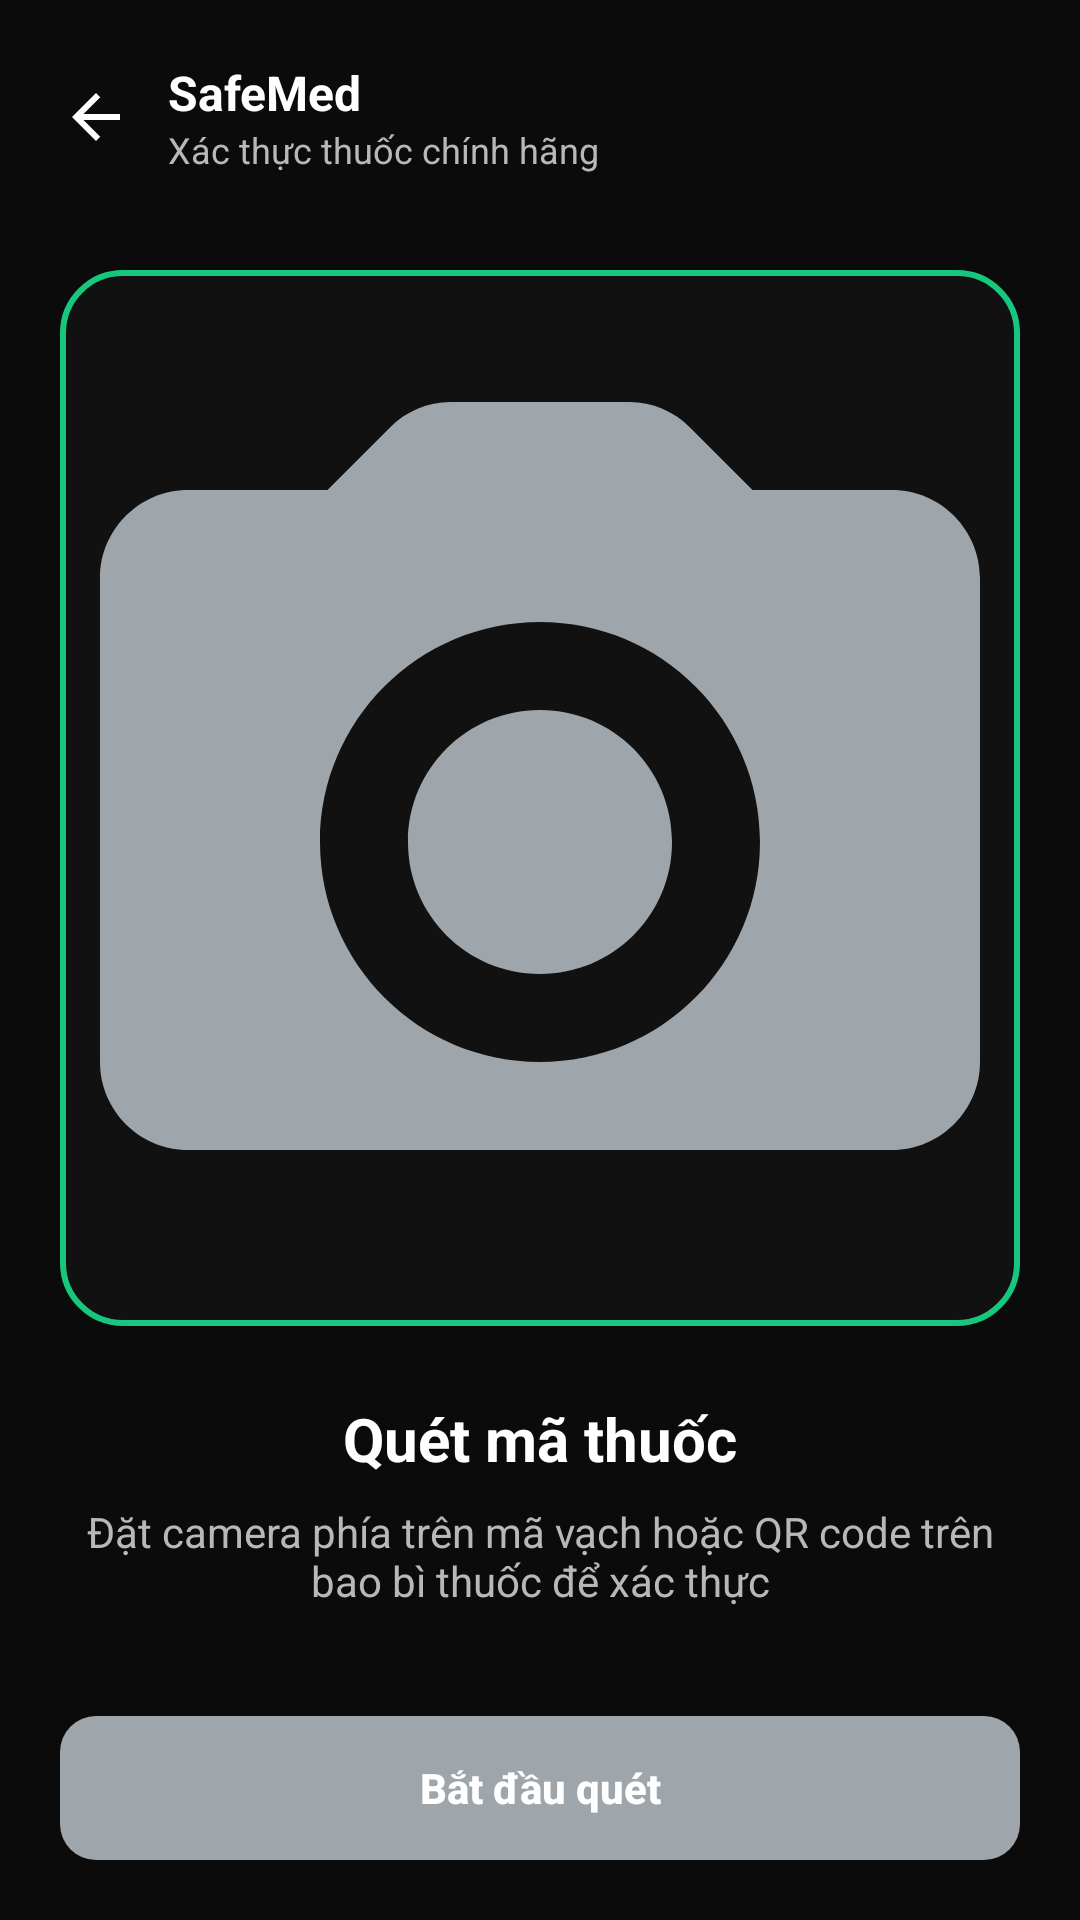

Screen size 1080x1920. Icon name, then its center in pixels as (x=x, y=y):
arrow back: (x=96, y=117)
